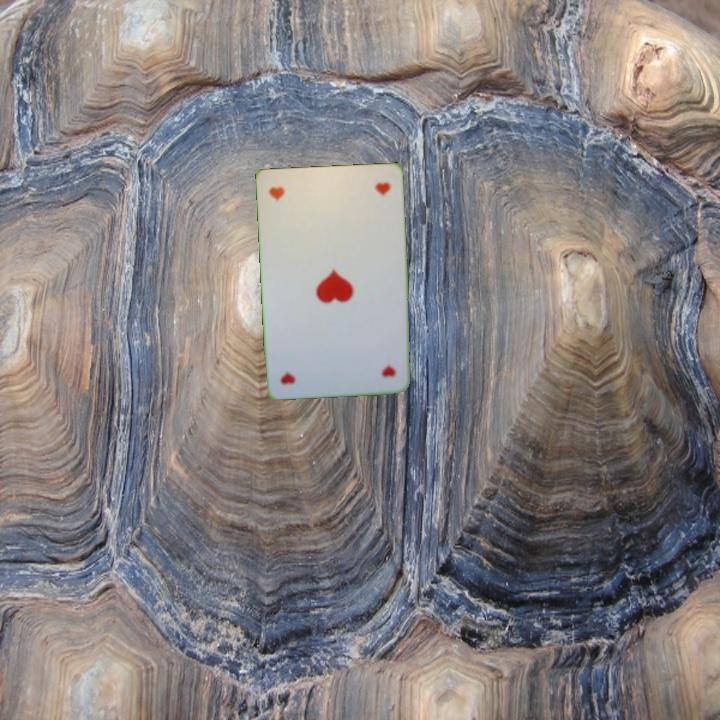h_a.png: (333, 326, 403, 387), (265, 176, 335, 236)
